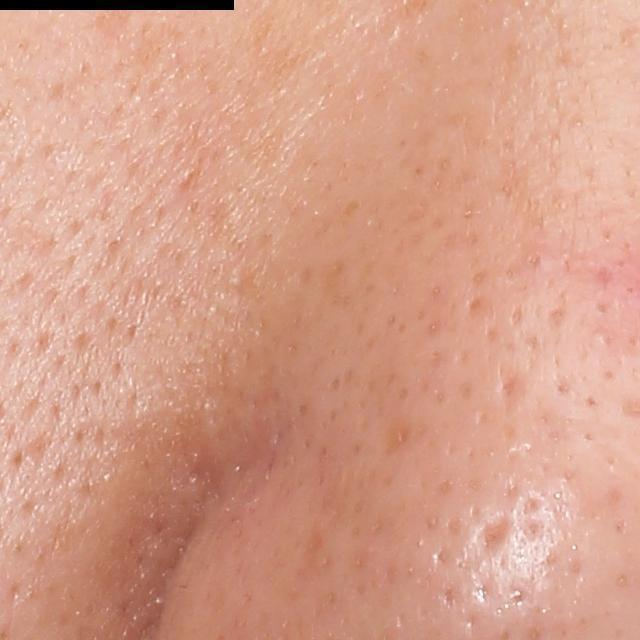atrophic_scar: (474, 512, 514, 557), (497, 372, 531, 409)
